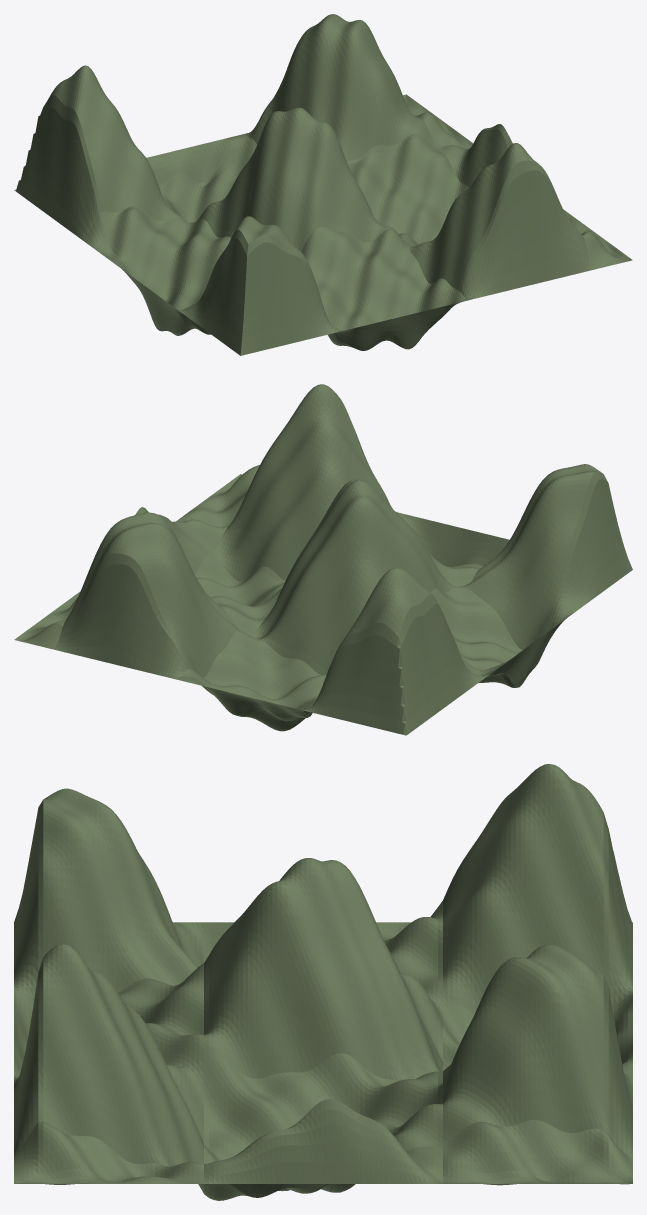
File: harbor_mangrove_flats.obj
3 renders of one model, top to bottom at view 1: azimuth 30°, elevation 25°; view 2: azimuth 150°, elevation 25°; view 3: azimuth 270°, elevation 25°, orthographic. The views are drawn at different scales.
Parts seen in each view (by area): view 1: harbor_mangrove_flats; view 2: harbor_mangrove_flats; view 3: harbor_mangrove_flats.
Part boxes in pixels (left/top/right/bottom): harbor_mangrove_flats: left=14, top=14, right=632, bottom=355; harbor_mangrove_flats: left=14, top=384, right=632, bottom=735; harbor_mangrove_flats: left=14, top=764, right=632, bottom=1200.
Bounding box in the file's own units: 28 × 12.79 × 28.
